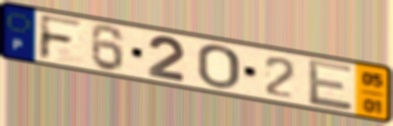2: (146, 34, 188, 85), (263, 56, 298, 100)
6: (88, 23, 126, 74)
E: (306, 57, 355, 113)
F: (36, 12, 85, 63)
O: (196, 44, 242, 91)
